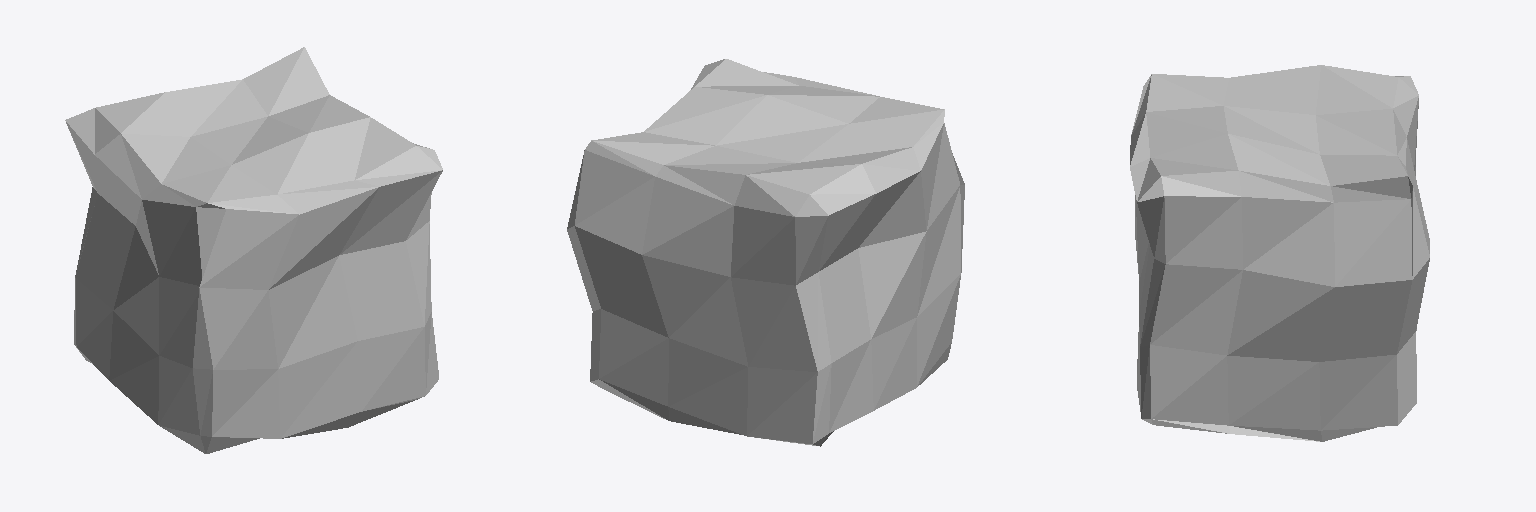
File: Hielo 4.obj
3 renders of one model, left to right at view 1: azimuth 30°, elevation 25°; view 2: azimuth 150°, elevation 25°; view 3: azimuth 270°, elevation 25°, orthographic.
Parts seen in each view (by area): view 1: Object002; view 2: Object002; view 3: Object002.
Part boxes in pixels (x1,y1,x2,y2): Object002: (65, 47, 442, 453); Object002: (567, 59, 964, 446); Object002: (1130, 65, 1429, 441).
Size of the model in its own units: 44.41 by 42.62 by 42.86.